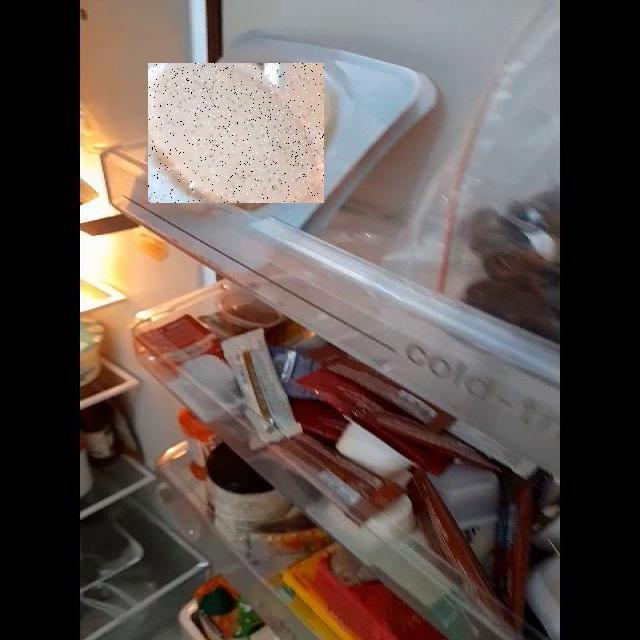Sausages: (148, 63, 324, 203)
